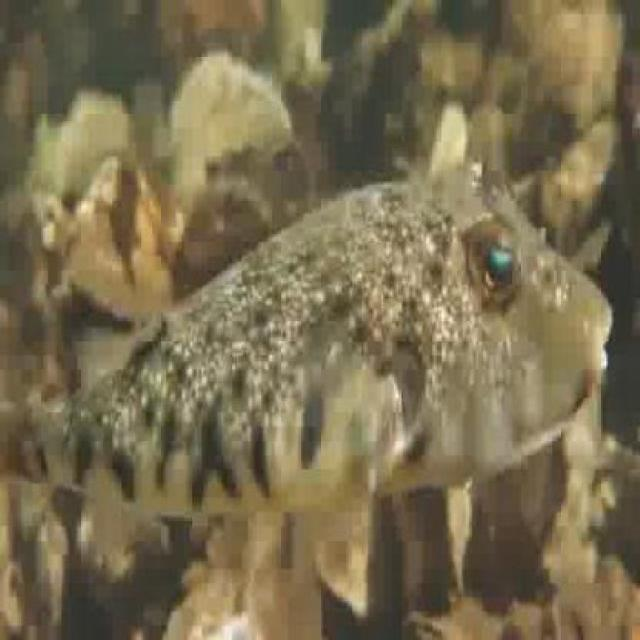Oyster- Indeterminate: (171, 55, 296, 229), (324, 0, 439, 165), (508, 0, 623, 115), (59, 95, 139, 205), (184, 185, 270, 270)
Oyster-Closed: (409, 602, 498, 640)
Oyster-Open: (72, 165, 174, 321)
